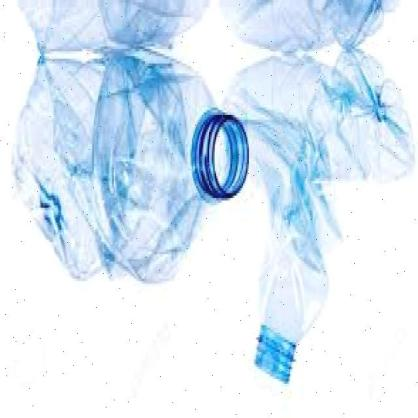bottle: (226, 53, 416, 385), (9, 40, 248, 294)
